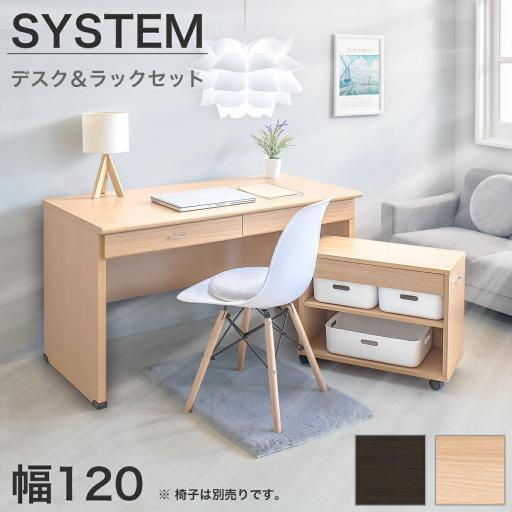table: (32, 160, 362, 410)
